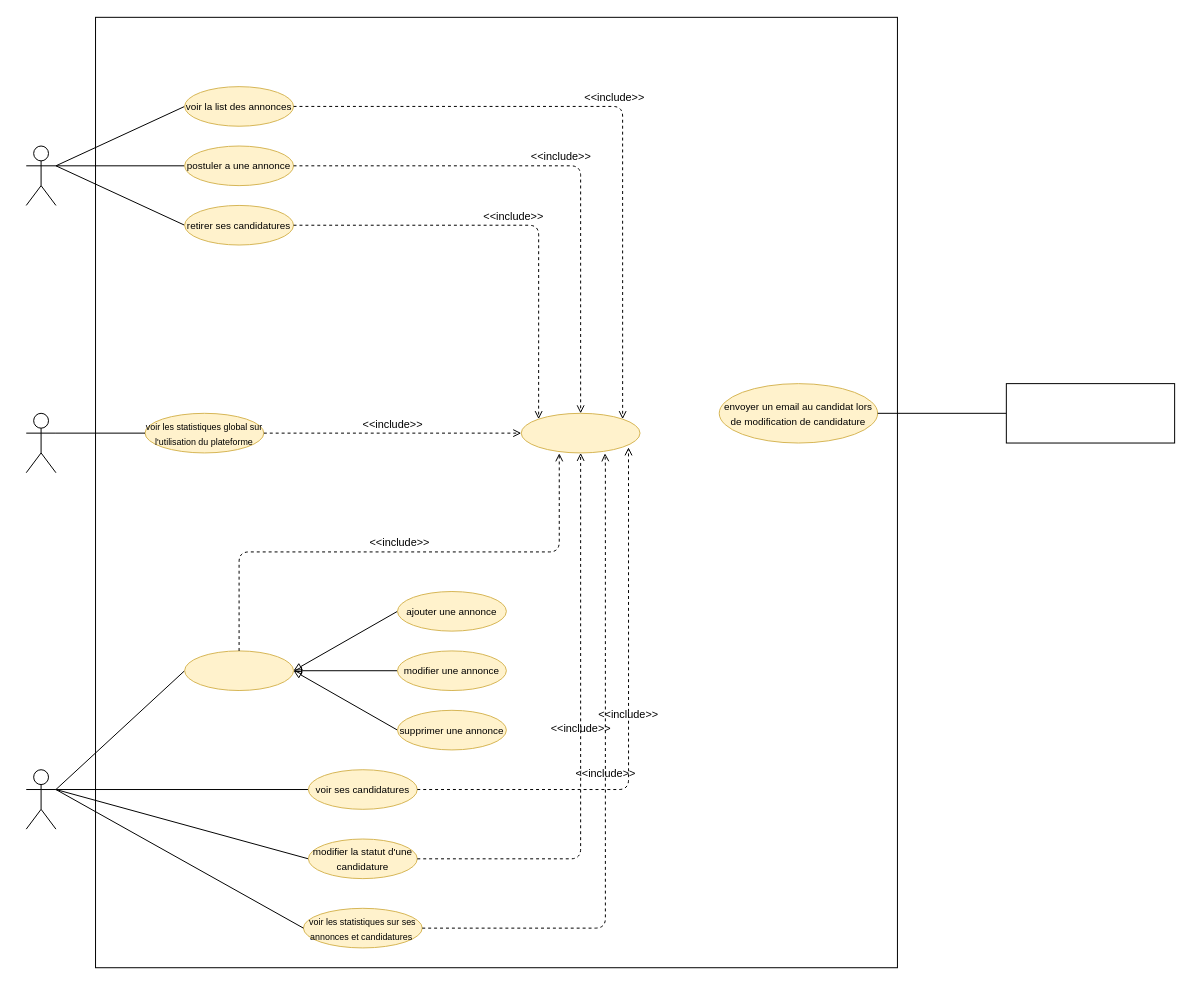
Some shapes in this 1192 by 985 pixel diagram are drawn without their labels. The centre of each missing label's shape, as x and y in pixels:
"<<acteur secondaire>> systeme" goes at (1090,413).
"admin" goes at (40,442).
"authentication" goes at (580,432).
"candidat" goes at (40,175).
"gérer ses annonces" goes at (239,670).
"recruteur" goes at (40,799).
